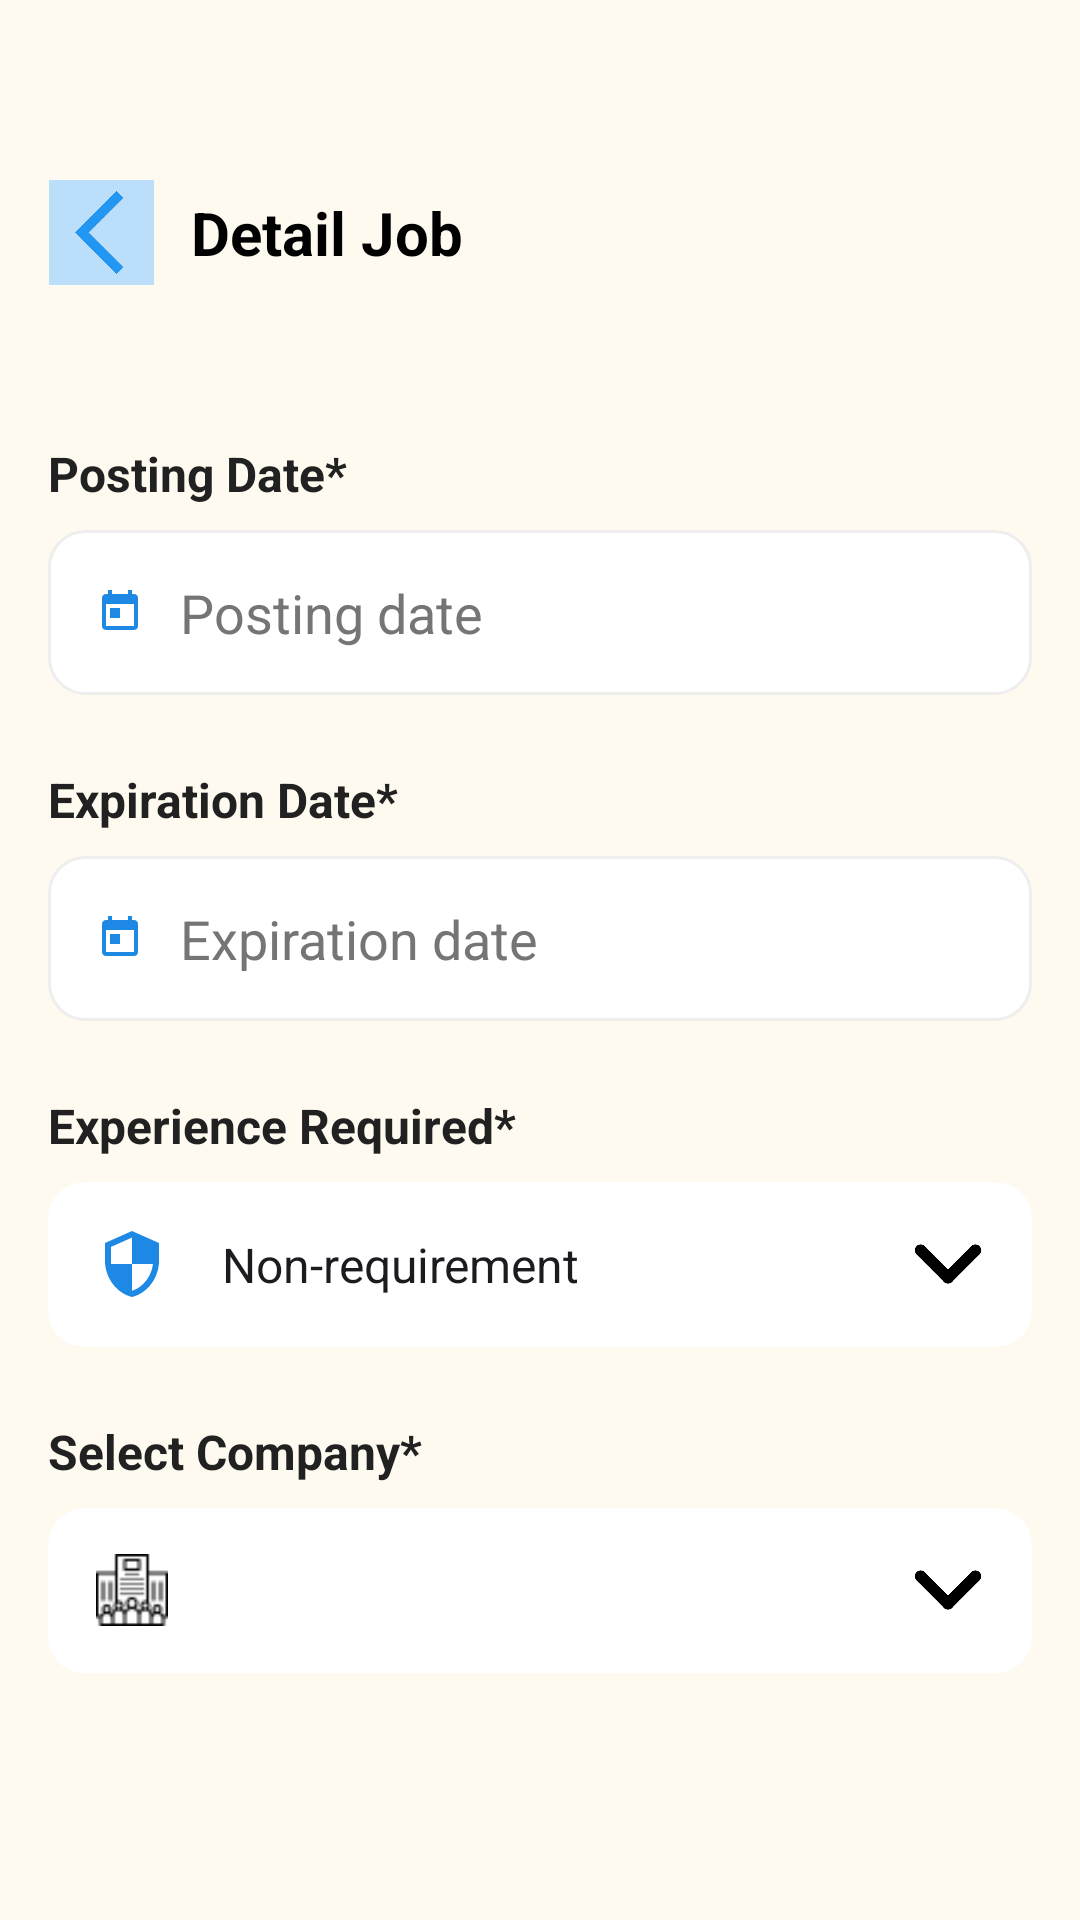

Icons on this 1080px×1920px Android screen, each with its box as Rect(x1, y1, x2, y2):
comeback: Rect(49, 180, 154, 285)
Dropdown: Rect(915, 1244, 981, 1284), Rect(915, 1570, 981, 1610)
